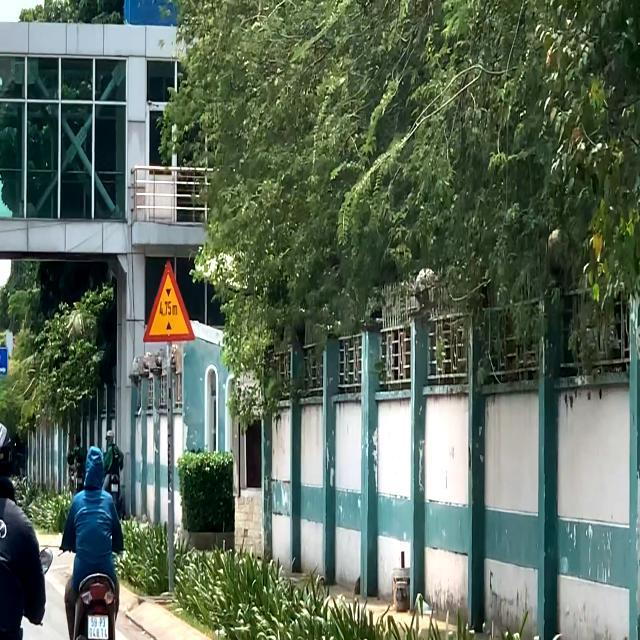W-239b: (141, 259, 193, 340)
